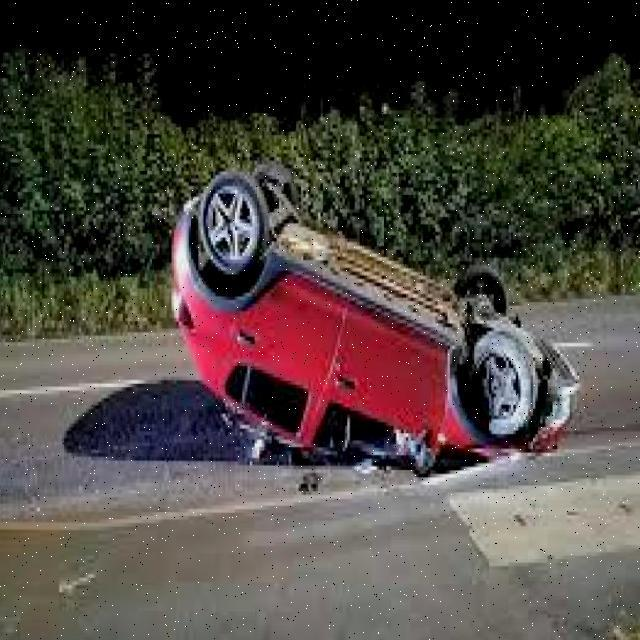single accident: (105, 142, 620, 496)
